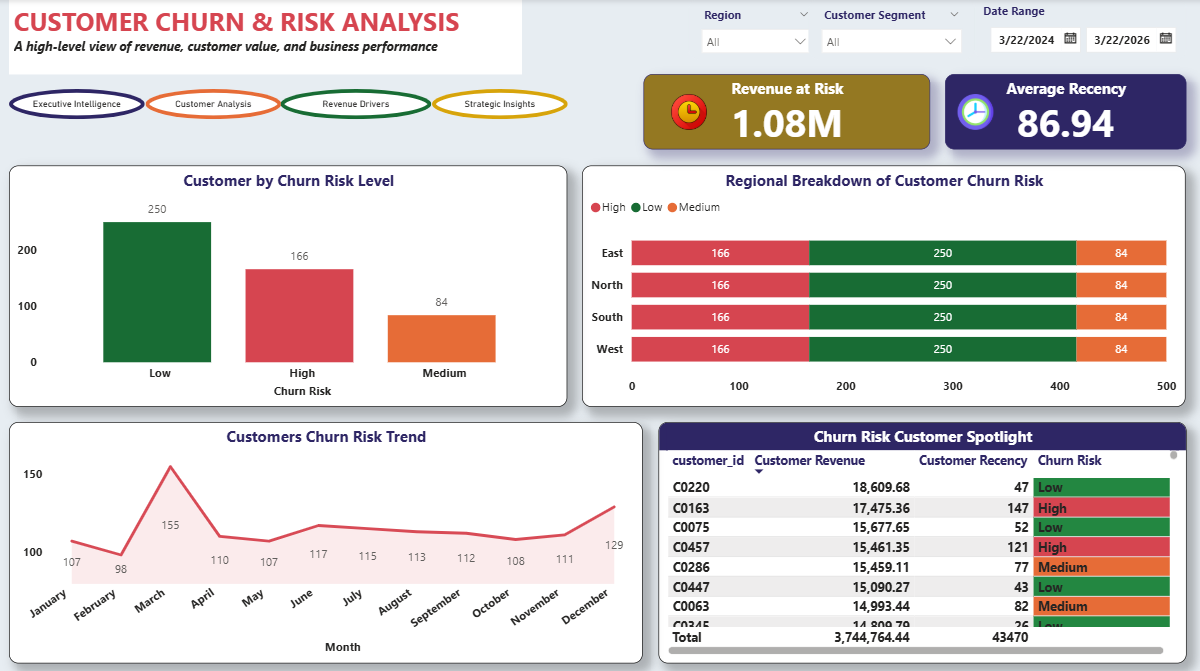

Layout of this report page (visuals, bound fields, positions):
{"tool":"powerbi","page":{"name":"Churn Analysis","canvas":[1280,720],"ordinal":2},"visuals":[{"type":"barChart","title":"Regional Breakdown of Customer Churn Risk","fields":{"Category":["orders.region"],"Y":["Customer Summary.Customer Count"],"Series":["Customer Summary.Churn Risk"]},"box":[624,176,640,256],"z":0},{"type":"clusteredColumnChart","title":"Customer by Churn Risk Level","fields":{"Category":["Customer Summary.Churn Risk"],"Y":["Customer Summary.Customer Count"]},"box":[16,176,592,256],"z":1000},{"type":"tableEx","title":"Churn Risk Customer Spotlight","fields":{"Values":["Customer Summary.customer_id","Sum(Customer Summary.Customer Revenue)","Sum(Customer Summary.Customer Recency)","Customer Summary.Churn Risk"]},"box":[704,448,560,256],"z":2000},{"type":"stackedAreaChart","title":"Customers Churn Risk Trend","fields":{"Category":["Date Table.Date.Variation.Date Hierarchy.Month"],"Y":["Customer Summary.High Risk Customers (Trend)"]},"box":[16,448,672,256],"z":3000},{"type":"card","title":"Average Recency","fields":{"Values":["customers.Avg Recency"]},"box":[1008,80,256,80],"z":4000},{"type":"slicer","fields":{"Values":["orders.region"]},"box":[736,0,144,64],"z":5000},{"type":"slicer","fields":{"Values":["customers (1).segment"]},"box":[864,0,176,64],"z":6000},{"type":"slicer","title":"Date Range","fields":{"Values":["orders.order_date"]},"box":[1040,0,224,64],"z":7000},{"type":"card","title":"Revenue at Risk","fields":{"Values":["Customer Summary.Revenue_at Risk"]},"box":[688,80,304,80],"z":8000},{"type":"textbox","box":[16,0,544,80],"z":9000},{"type":"actionButton","box":[16,96,144,32],"z":10000},{"type":"actionButton","box":[160,96,144,32],"z":11000},{"type":"actionButton","box":[304,96,160,32],"z":12000},{"type":"actionButton","box":[464,96,144,32],"z":13000},{"type":"image","box":[704,96,64,48],"z":14000},{"type":"image","box":[1008,96,64,48],"z":15000}]}

Visuals, with their boxes in screenshot pixels (x1, y1, x2, y2), scaled from the page's 1280x720 canvas onto the 1200x671 screenshot:
"Regional Breakdown of Customer Churn Risk" barChart: (x1=585, y1=164, x2=1185, y2=403)
"Customer by Churn Risk Level" clusteredColumnChart: (x1=15, y1=164, x2=570, y2=403)
"Churn Risk Customer Spotlight" tableEx: (x1=660, y1=418, x2=1185, y2=656)
"Customers Churn Risk Trend" stackedAreaChart: (x1=15, y1=418, x2=645, y2=656)
"Average Recency" card: (x1=945, y1=75, x2=1185, y2=149)
slicer - orders.region: (x1=690, y1=0, x2=825, y2=60)
slicer - customers (1).segment: (x1=810, y1=0, x2=975, y2=60)
"Date Range" slicer: (x1=975, y1=0, x2=1185, y2=60)
"Revenue at Risk" card: (x1=645, y1=75, x2=930, y2=149)
textbox: (x1=15, y1=0, x2=525, y2=75)
actionButton: (x1=15, y1=89, x2=150, y2=119)
actionButton: (x1=150, y1=89, x2=285, y2=119)
actionButton: (x1=285, y1=89, x2=435, y2=119)
actionButton: (x1=435, y1=89, x2=570, y2=119)
image: (x1=660, y1=89, x2=720, y2=134)
image: (x1=945, y1=89, x2=1005, y2=134)
